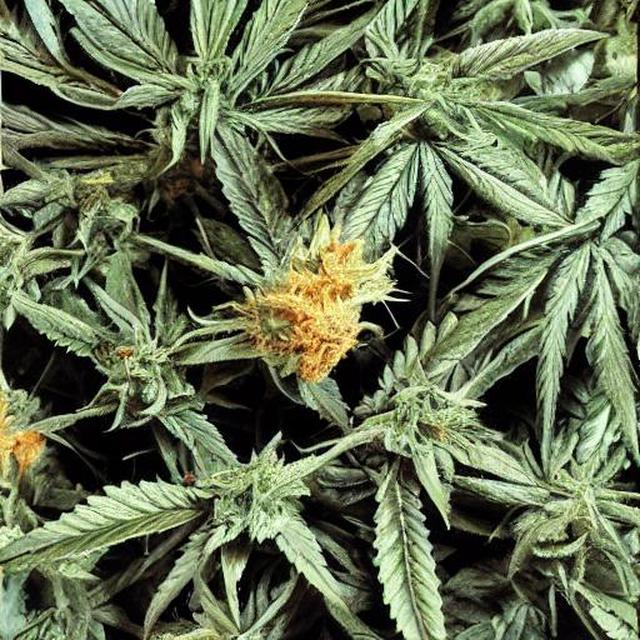Marijuana Plant: (0, 68, 639, 639)
